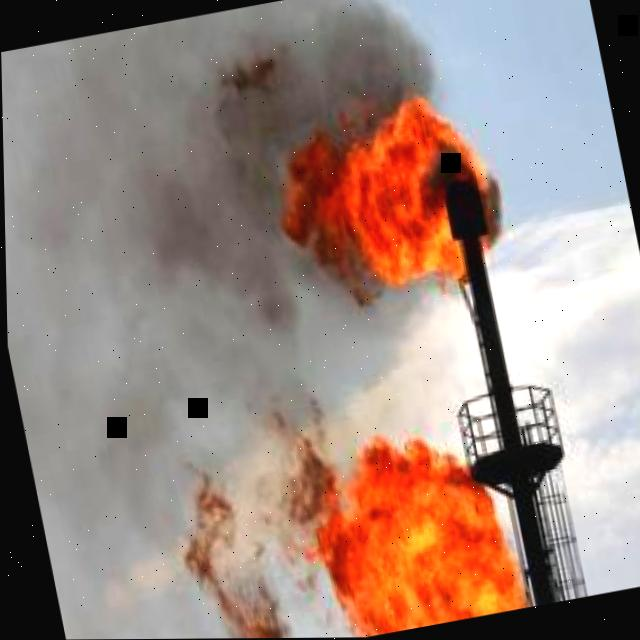fire: (266, 392, 523, 638), (281, 92, 491, 308), (184, 461, 282, 639)
smoke: (1, 0, 437, 341), (13, 233, 435, 464)
